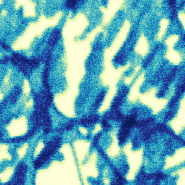hole_filled: (47, 8, 183, 119), (0, 54, 41, 141)
